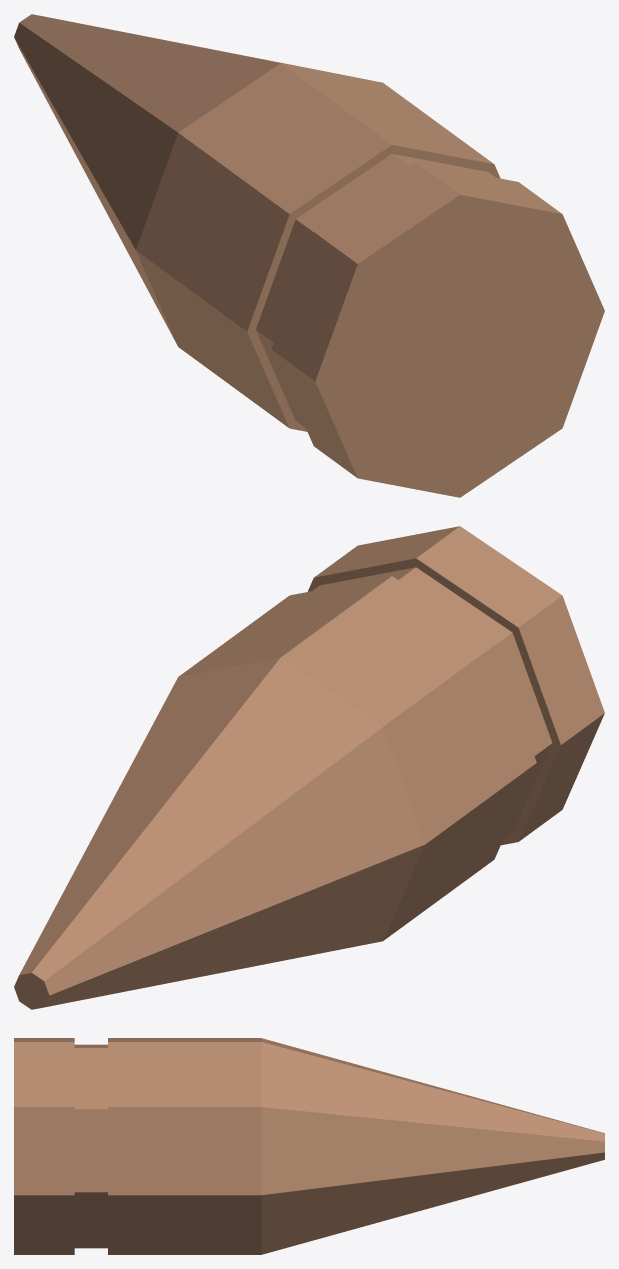
File: bullet.glb
3 renders of one model, top to bottom at view 1: azimuth 30°, elevation 25°; view 2: azimuth 150°, elevation 25°; view 3: azimuth 270°, elevation 25°, orthographic. The views are drawn at different scales.
Parts seen in each view (by area): view 1: 30-06-springfield-bullet; view 2: 30-06-springfield-bullet; view 3: 30-06-springfield-bullet.
Part boxes in pixels (box(x1,y1,x2,y2)): 30-06-springfield-bullet: box(14, 14, 604, 497); 30-06-springfield-bullet: box(14, 526, 604, 1009); 30-06-springfield-bullet: box(14, 1038, 604, 1254).
Bounding box in the file's own units: 0.00973 × 0.00973 × 0.0249.
